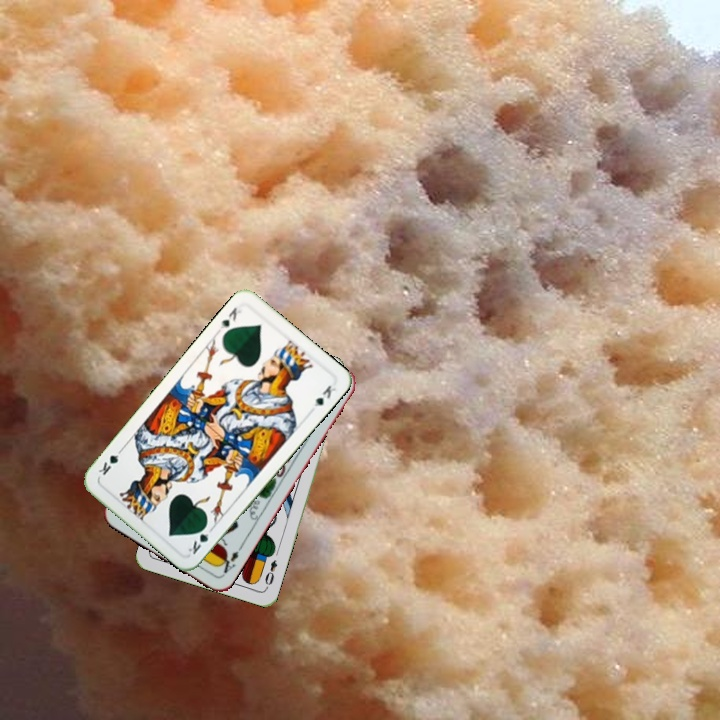EA: (215, 547, 241, 578)
EO: (261, 556, 280, 591)
GK: (184, 520, 216, 557), (215, 303, 244, 332)
